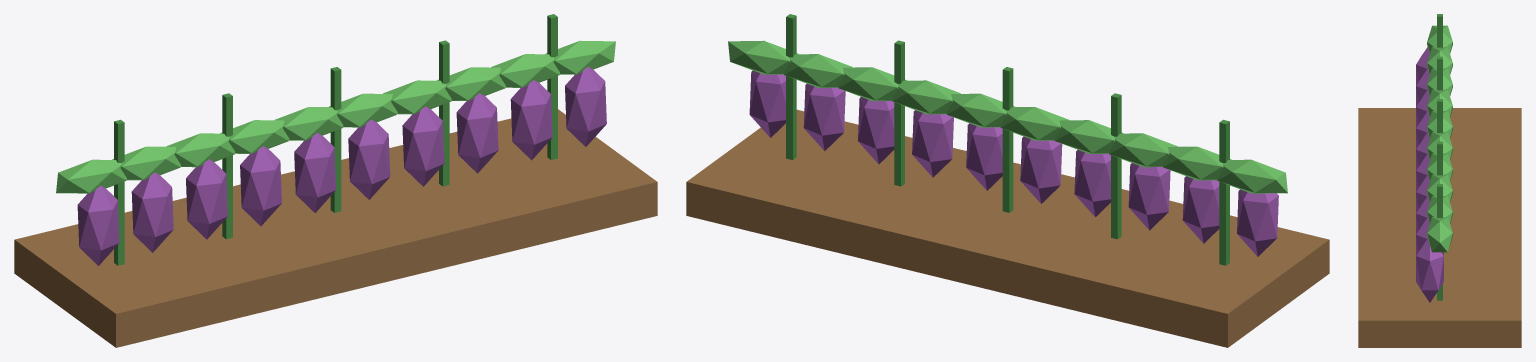
File: TR3_CropRow_Eggplant.glb
3 views of the same model, side by side, from view 1: azimuth 30°, elevation 25°; view 2: azimuth 150°, elevation 25°; view 3: azimuth 270°, elevation 25° (orthographic). The views are drawn at different scales.
Parts seen in each view (by area): view 1: TR3_CropRow_Eggplant; view 2: TR3_CropRow_Eggplant; view 3: TR3_CropRow_Eggplant.
Part boxes in pixels (x1=…): TR3_CropRow_Eggplant: x1=14, y1=14, x2=657, y2=347; TR3_CropRow_Eggplant: x1=686, y1=14, x2=1329, y2=347; TR3_CropRow_Eggplant: x1=1358, y1=14, x2=1521, y2=347.
Bounding box in the file's own units: 2.07 × 0.62 × 0.65.
